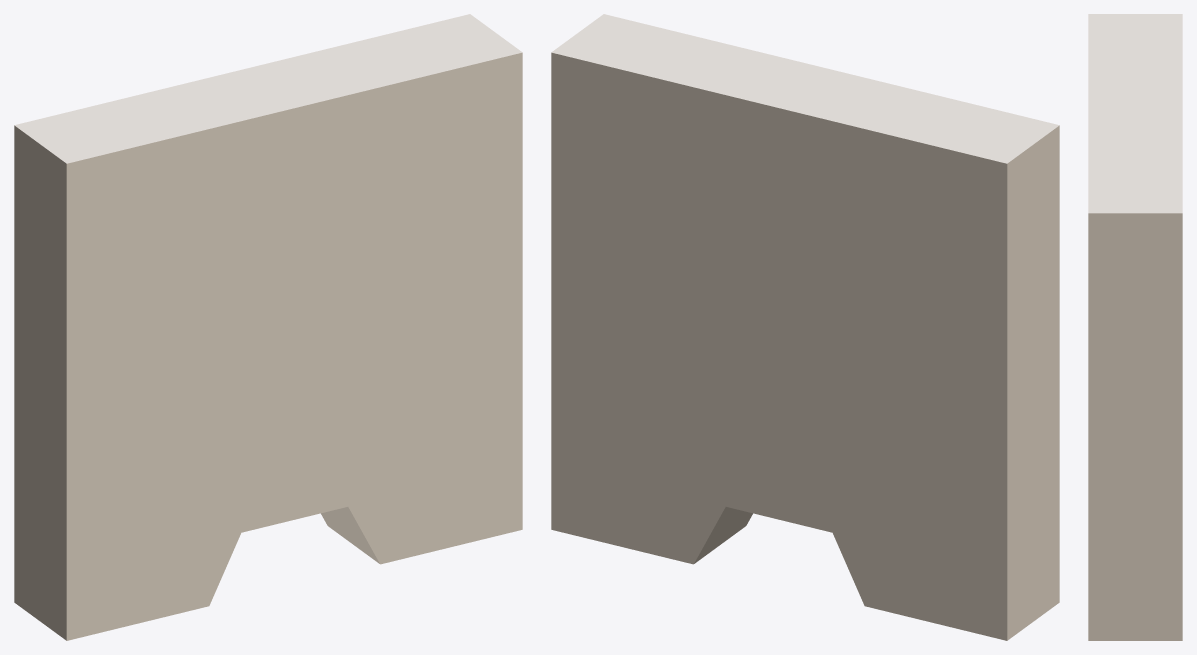
The model's file is Puzzle_Wall_Conduit_Passthrough.glb.
3 views of the same model, side by side, from view 1: azimuth 30°, elevation 25°; view 2: azimuth 150°, elevation 25°; view 3: azimuth 270°, elevation 25° (orthographic). The views are drawn at different scales.
Visible parts, largest first — view 1: Puzzle_Wall_Conduit_Passthrough; view 2: Puzzle_Wall_Conduit_Passthrough; view 3: Puzzle_Wall_Conduit_Passthrough.
Part boxes in pixels (bbox=[...]): Puzzle_Wall_Conduit_Passthrough: bbox=[14, 14, 522, 640]; Puzzle_Wall_Conduit_Passthrough: bbox=[551, 14, 1059, 640]; Puzzle_Wall_Conduit_Passthrough: bbox=[1088, 14, 1182, 640].
Bounding box in the file's own units: 1 × 1 × 0.2.
